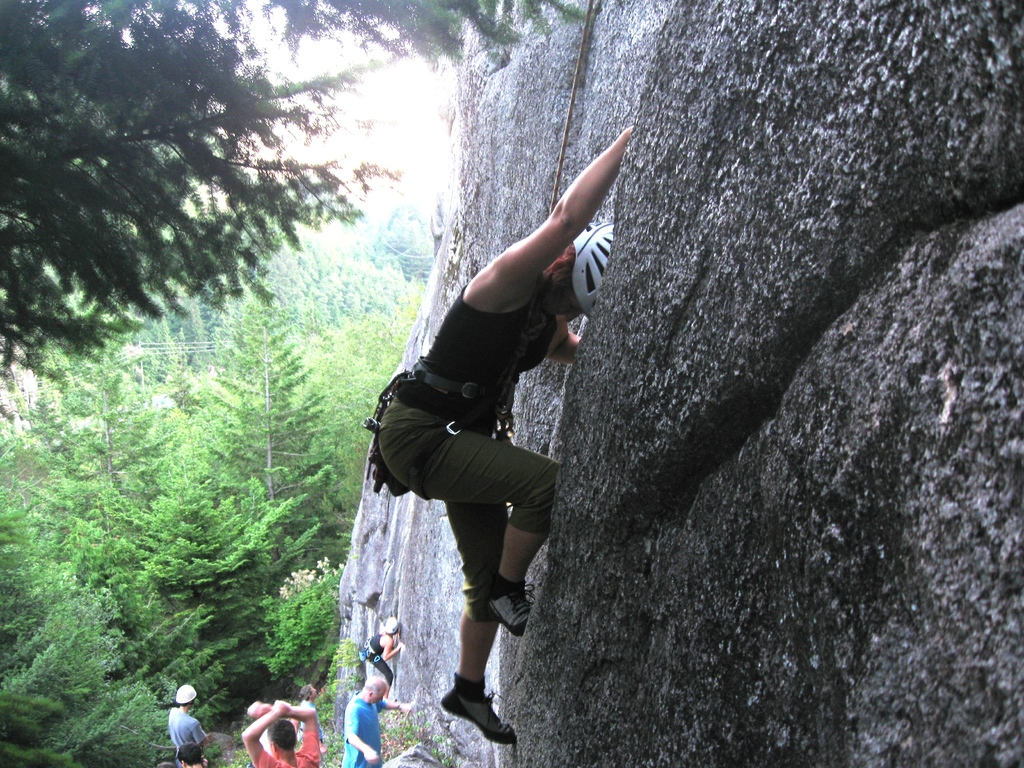Tree: (0, 0, 586, 421), (0, 202, 431, 768)
